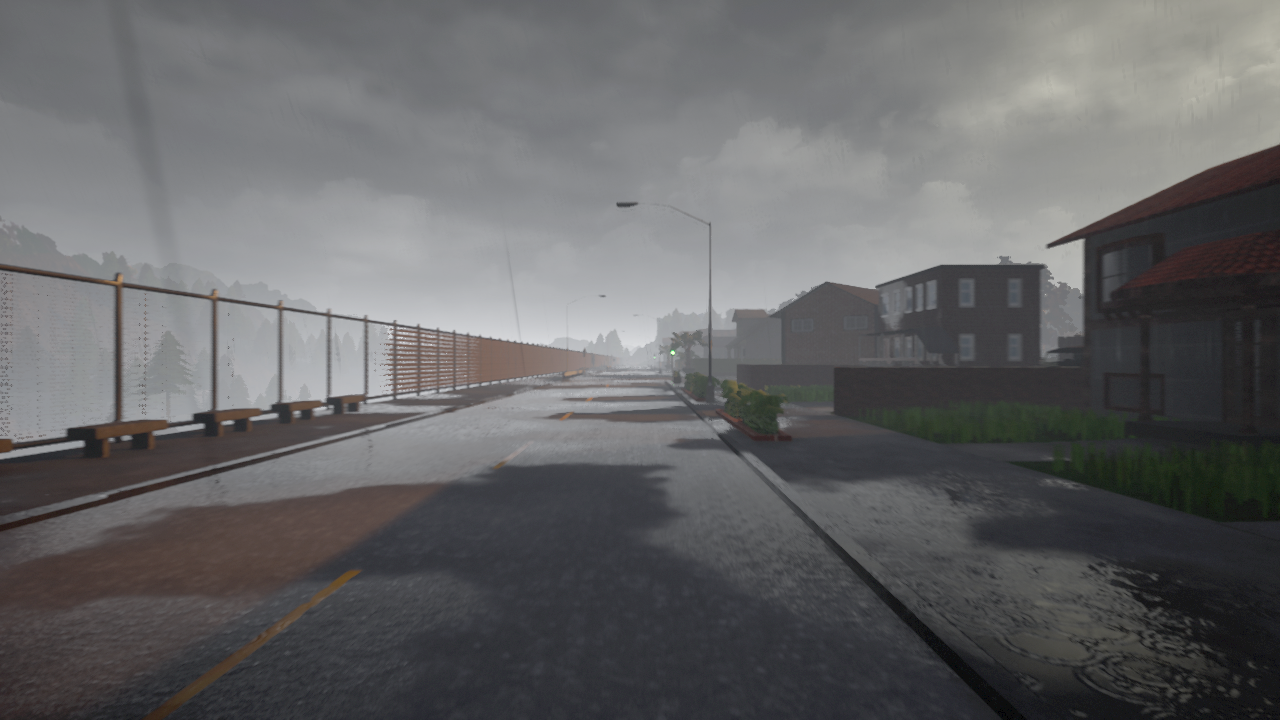green: (670, 343, 675, 357)
